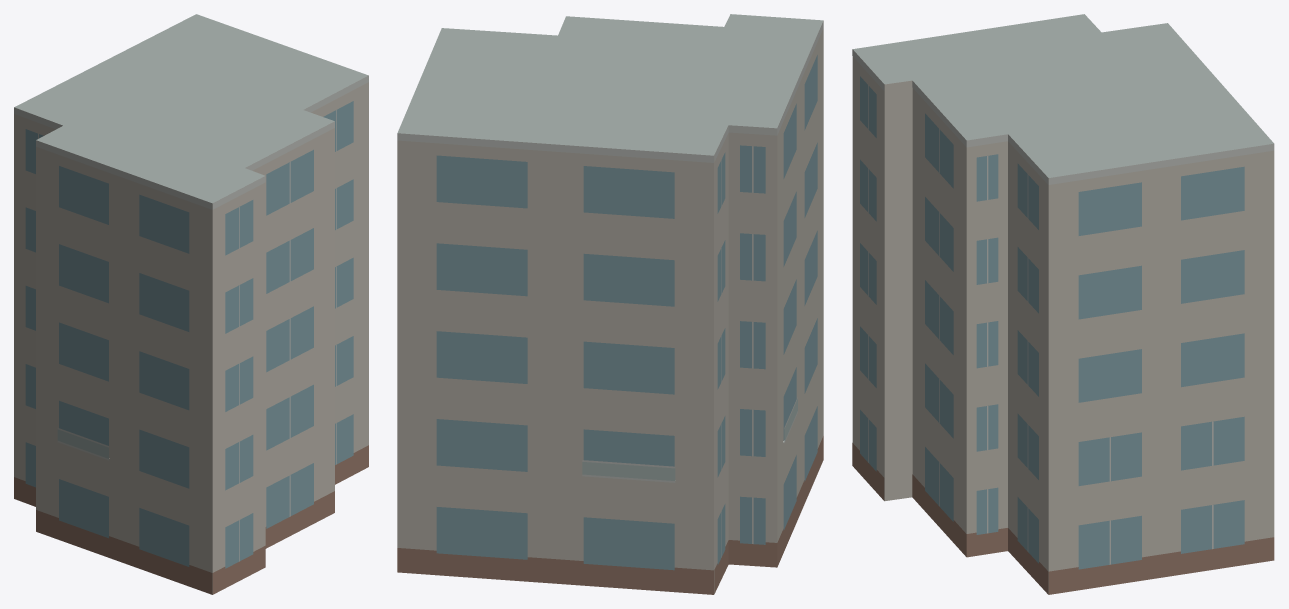
File: survey-upis-32524258.glb
3 views of the same model, side by side, from view 1: azimuth 30°, elevation 25°; view 2: azimuth 150°, elevation 25°; view 3: azimuth 270°, elevation 25° (orthographic). The views are drawn at different scales.
Parts seen in each view (by area): view 1: survey-upis-32524258.tmp; view 2: survey-upis-32524258.tmp; view 3: survey-upis-32524258.tmp.
Boxes of the visible parts, x1,y1,x2,y2 form: survey-upis-32524258.tmp: [14, 14, 368, 594]; survey-upis-32524258.tmp: [397, 14, 823, 594]; survey-upis-32524258.tmp: [852, 14, 1274, 594].
Bounding box in the file's own units: 12.38 × 14.65 × 13.45.
